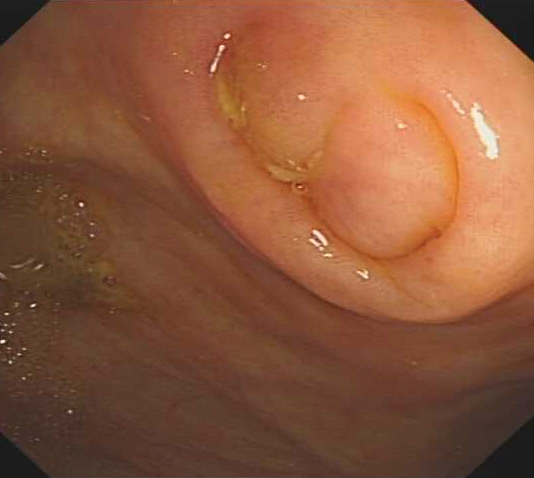adenoma: (305, 89, 462, 265)
